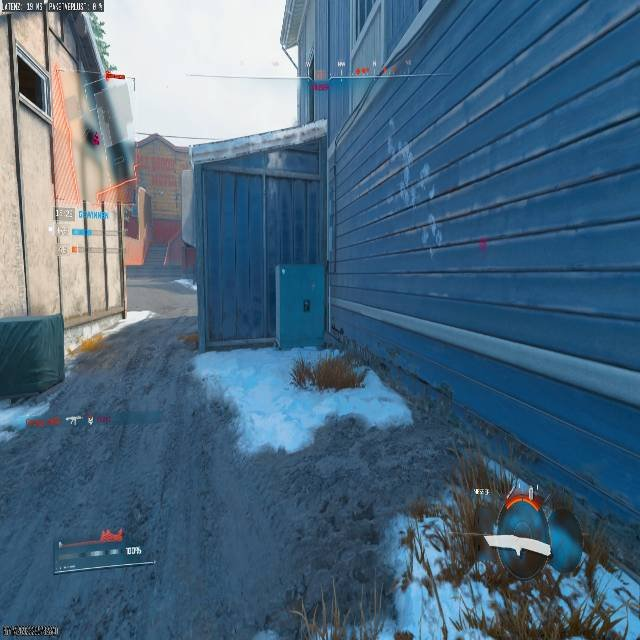head: (489, 501, 551, 578)
